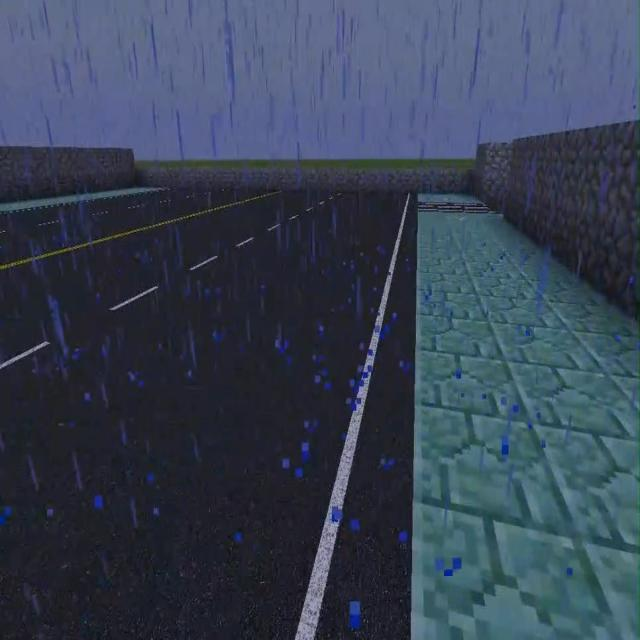8: (418, 203, 499, 213)
crosswalk: (0, 191, 413, 639)
road: (411, 212, 639, 639), (0, 187, 170, 215), (419, 192, 484, 202)
